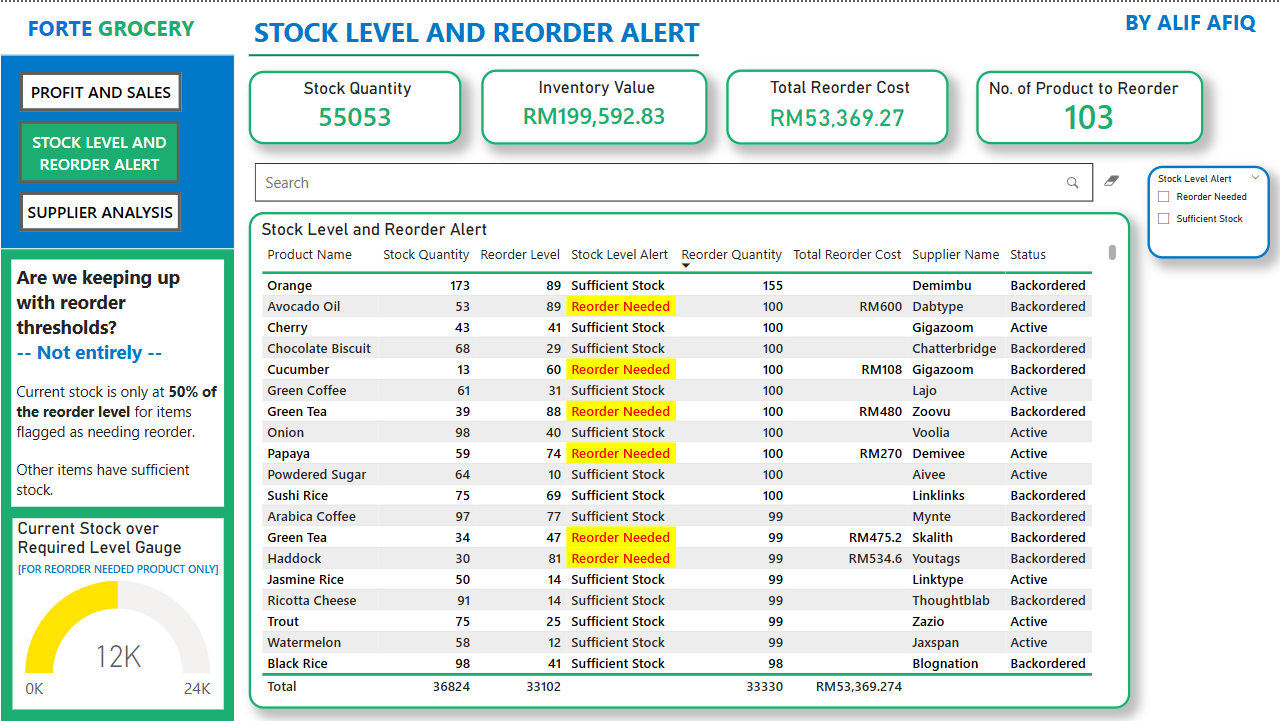

Layout of this report page (visuals, bound fields, positions):
{"tool":"powerbi","page":{"name":"STOCK LEVEL AND REORDER ALERT ","canvas":[1280,720],"ordinal":1},"visuals":[{"type":"shape","box":[0,52.5,235,667.5],"z":0},{"type":"textbox","box":[22.5,6.2,190,45],"z":1000},{"type":"textbox","box":[248.2,5.8,512.2,54.8],"z":2000},{"type":"shape","box":[248.2,33.2,450.1,39],"z":3000},{"type":"card","title":"Stock Quantity","fields":{"Values":["Sum(Forte_Grocery.Stock_Quantity)"]},"box":[248.8,68.8,212.5,73.8],"z":4000},{"type":"card","title":"Inventory Value","fields":{"Values":["Key Measures.Inventory Value"]},"box":[481.2,67.5,226.2,75],"z":5000},{"type":"card","title":"Total Reorder Cost","fields":{"Values":["Key Measures.Total Reorder Cost"]},"box":[726.2,67.5,222.5,75],"z":6000},{"type":"card","title":"No. of Product to Reorder","fields":{"Values":["Key Measures.Number of Products to Reorder"]},"box":[976.2,68.8,227.5,73.8],"z":7000},{"type":"tableEx","title":"Stock Level and Reorder Alert","fields":{"Values":["Forte_Grocery.Product_Name","Sum(Forte_Grocery.Stock_Quantity)","Sum(Forte_Grocery.Reorder_Level)","Forte_Grocery.Stock Level Alert","Sum(Forte_Grocery.Reorder_Quantity)","Key Measures.Total Reorder Cost","Forte_Grocery.Supplier_Name","Forte_Grocery.Status"]},"box":[248.6,210,881.4,497.1],"z":8000},{"type":"slicer","fields":{"Values":["Forte_Grocery.Stock Level Alert"]},"box":[1147.5,163.8,122.5,92.5],"z":9000},{"type":"actionButton","box":[20.4,69.5,161.8,39.6],"z":10000},{"type":"actionButton","box":[18.8,118.8,161.2,62.5],"z":11000},{"type":"actionButton","box":[20.4,190.6,160.6,39.6],"z":12000},{"type":"textFilter25A4896A83E0487089E2B90C9AE57C8A","fields":{"field":["Forte_Grocery.SearchFilter"]},"box":[250,155.7,885.7,54.3],"z":13000},{"type":"shape","box":[0,246,235,474],"z":14000},{"type":"textbox","box":[11.2,257.5,212.5,247.5],"z":15000},{"type":"gauge","title":"Current Stock over Required Level Gauge","fields":{"Y":["Sum(Forte_Grocery.Stock_Quantity)"]},"box":[12.5,516.2,211.2,191.2],"z":16000},{"type":"textbox","box":[1120,0,160,45],"z":16001}]}

Visuals, with their boxes in screenshot pixels (x1, y1, x2, y2), scaled from the page's 1280x720 canvas onto the 1280x721 screenshot:
shape: 0:53:235:720
textbox: 22:6:212:51
textbox: 248:6:760:61
shape: 248:33:698:72
"Stock Quantity" card: 249:69:461:143
"Inventory Value" card: 481:68:707:143
"Total Reorder Cost" card: 726:68:949:143
"No. of Product to Reorder" card: 976:69:1204:143
"Stock Level and Reorder Alert" tableEx: 249:210:1130:708
slicer - Forte_Grocery.Stock Level Alert: 1148:164:1270:257
actionButton: 20:70:182:109
actionButton: 19:119:180:182
actionButton: 20:191:181:231
textFilter25A4896A83E0487089E2B90C9AE57C8A - Forte_Grocery.SearchFilter: 250:156:1136:210
shape: 0:246:235:720
textbox: 11:258:224:506
"Current Stock over Required Level Gauge" gauge: 12:517:224:708
textbox: 1120:0:1279:45
